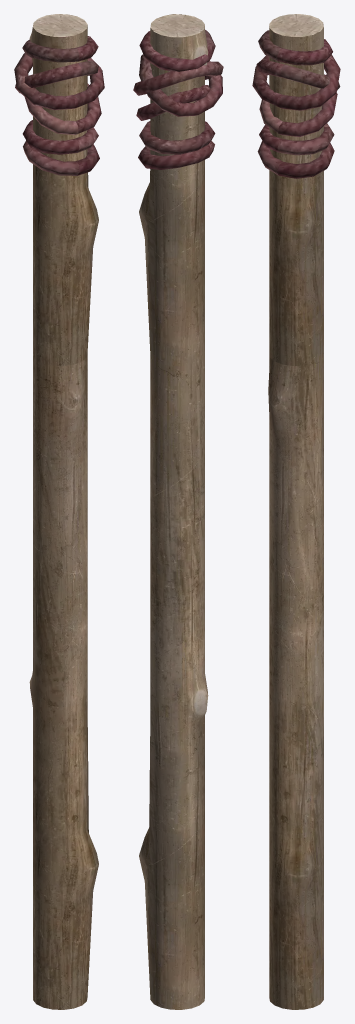
The picture shows the model from 3 angles, left to right: view 1: azimuth 30°, elevation 25°; view 2: azimuth 210°, elevation 25°; view 3: azimuth 330°, elevation 25°; orthographic projection.
Parts seen in each view (by area): view 1: SM_Garou_Set_SM_VerticalLog_02_1x6_LOD0; view 2: SM_Garou_Set_SM_VerticalLog_02_1x6_LOD0; view 3: SM_Garou_Set_SM_VerticalLog_02_1x6_LOD0.
Part boxes in pixels (<box>): SM_Garou_Set_SM_VerticalLog_02_1x6_LOD0: <box>14,14,104,1009</box>; SM_Garou_Set_SM_VerticalLog_02_1x6_LOD0: <box>133,14,223,1009</box>; SM_Garou_Set_SM_VerticalLog_02_1x6_LOD0: <box>252,14,340,1009</box>.
Bounding box in the file's own units: 0.5437 × 6.04 × 0.4459.
Materials: 1 (1 with a texture image).
